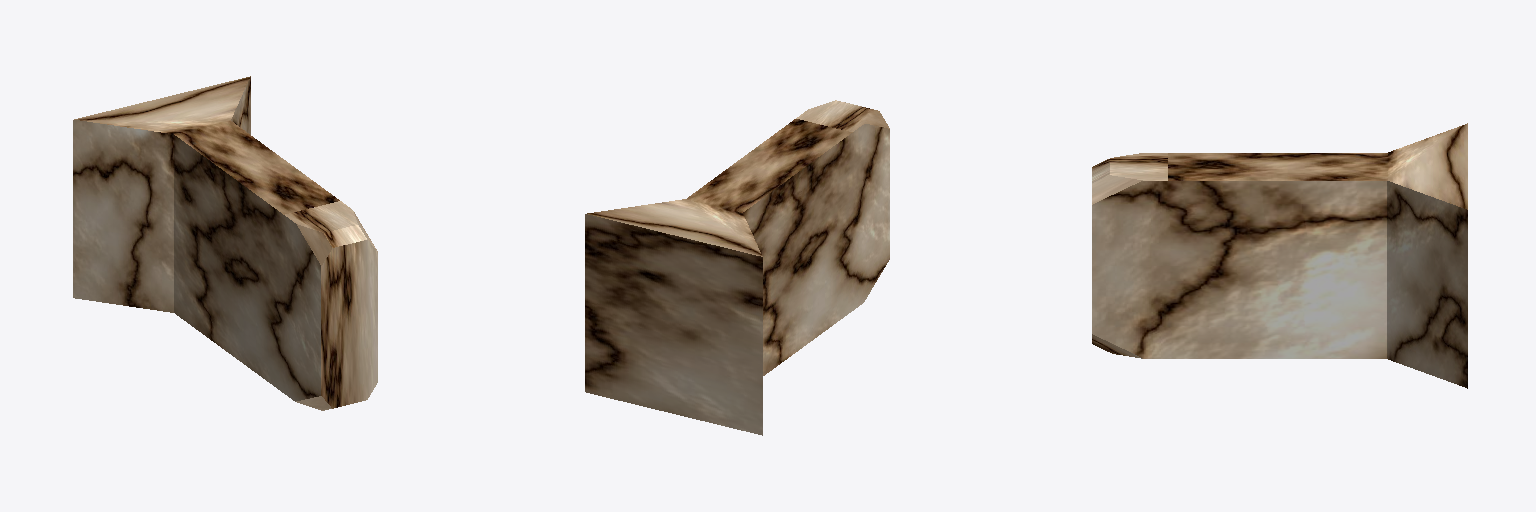
3 renders of one model, left to right at view 1: azimuth 30°, elevation 25°; view 2: azimuth 150°, elevation 25°; view 3: azimuth 270°, elevation 25°, orthographic.
Parts seen in each view (by area): view 1: Cube.001_Cube.001_Material.001; view 2: Cube.001_Cube.001_Material.001; view 3: Cube.001_Cube.001_Material.001.
Boxes of the visible parts, <box> form: Cube.001_Cube.001_Material.001: <box>73,76,377,410</box>; Cube.001_Cube.001_Material.001: <box>585,100,889,435</box>; Cube.001_Cube.001_Material.001: <box>1092,123,1467,388</box>.
Bounding box in the file's own units: 1.02 × 0.9812 × 1.87.
Materials: 1 (1 with a texture image).